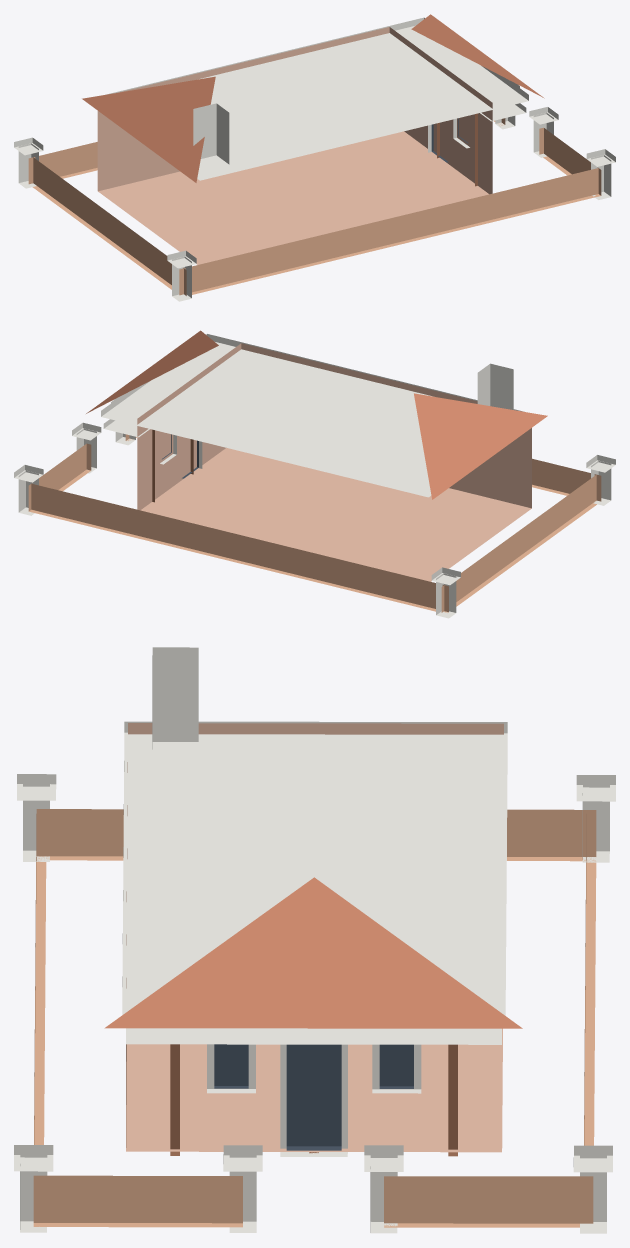
Rendered from cunucu_salmon.glb.
The picture shows the model from 3 angles, top to bottom: view 1: azimuth 30°, elevation 25°; view 2: azimuth 150°, elevation 25°; view 3: azimuth 270°, elevation 25°; orthographic projection. The views are drawn at different scales.
Visible parts, largest first — view 1: cunucu_paradera_lod0; view 2: cunucu_paradera_lod0; view 3: cunucu_paradera_lod0.
Boxes of the visible parts, x1,y1,x2,y2 form: cunucu_paradera_lod0: (14,14,615,301); cunucu_paradera_lod0: (14,330,615,618); cunucu_paradera_lod0: (14,647,615,1233).
Size of what is drawn, in the model's own units: 14.99 by 4.65 by 9.83.
